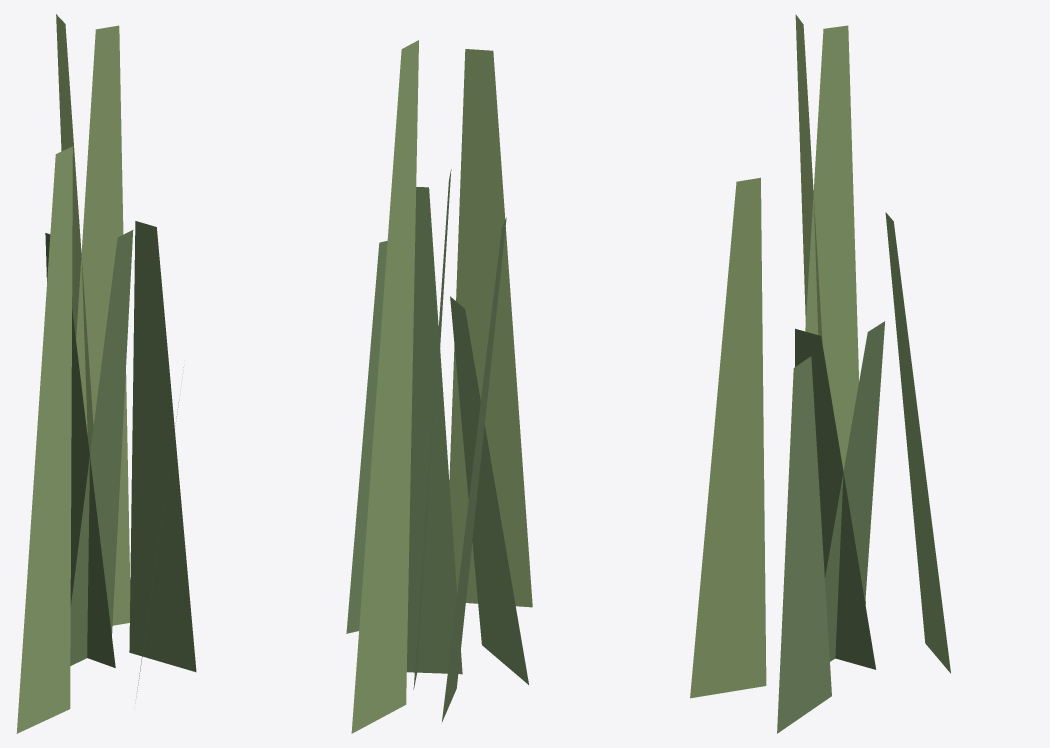
The model's file is nong.su@subadult__bloom.glb.
3 views of the same model, side by side, from view 1: azimuth 30°, elevation 25°; view 2: azimuth 150°, elevation 25°; view 3: azimuth 270°, elevation 25° (orthographic). The views are drawn at different scales.
Visible parts, largest first — view 1: nong.su@subadult__bloom; view 2: nong.su@subadult__bloom; view 3: nong.su@subadult__bloom.
Boxes of the visible parts, x1,y1,x2,y2 form: nong.su@subadult__bloom: [16, 14, 196, 733]; nong.su@subadult__bloom: [346, 40, 532, 733]; nong.su@subadult__bloom: [690, 14, 950, 733].
Bounding box in the file's own units: 0.2597 × 0.5438 × 0.27.
